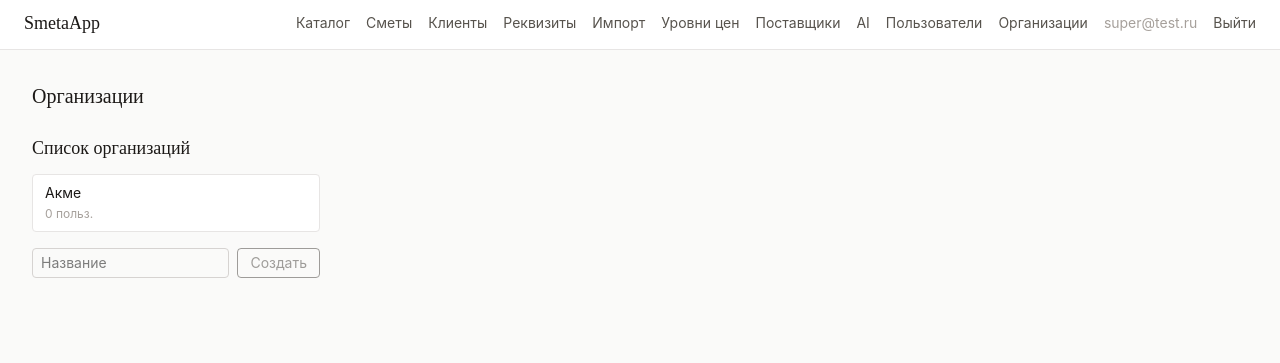
OrgsPage › показывает «письмо отправлено» если email_sent=true
Step 1. Click the text "Акме" → [63, 192], box [45,184,81,201]
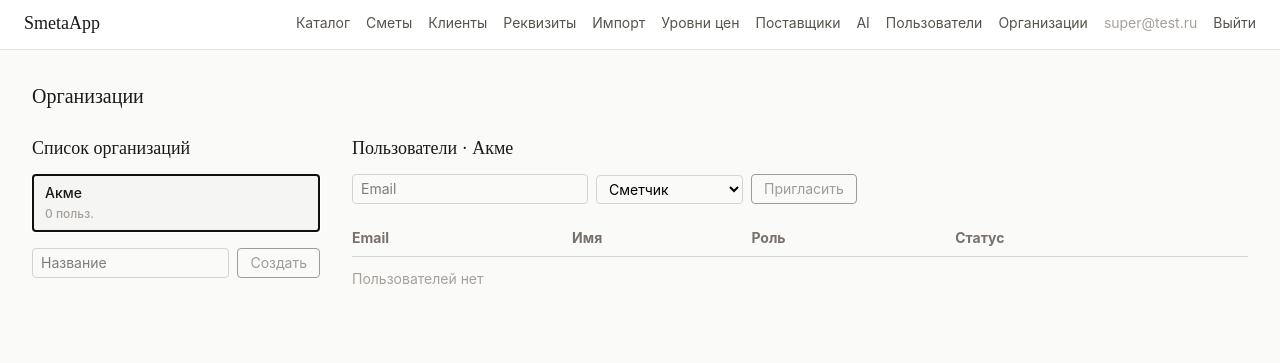
Step 2. Type "another@test.ru" into the field named "Email для приглашения" → [470, 189], box [352,174,588,204]
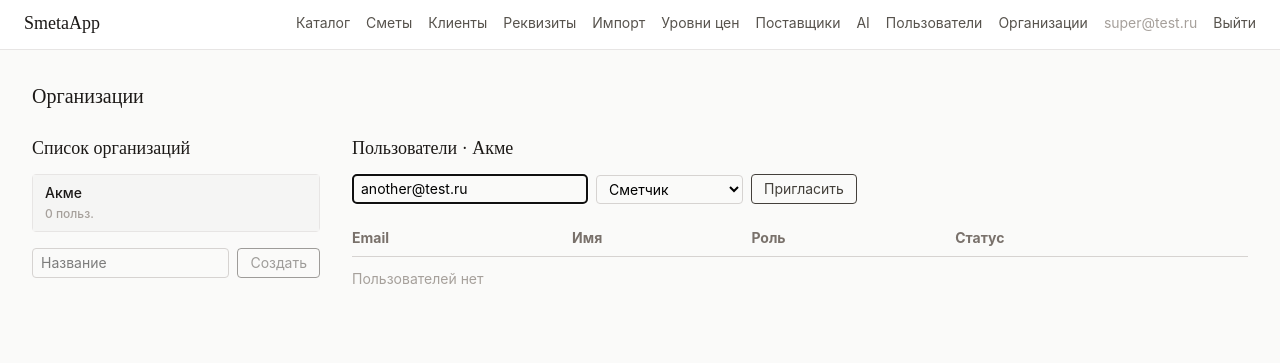
Step 3. Click the button "Пригласить" → [804, 189], box [751,174,857,204]
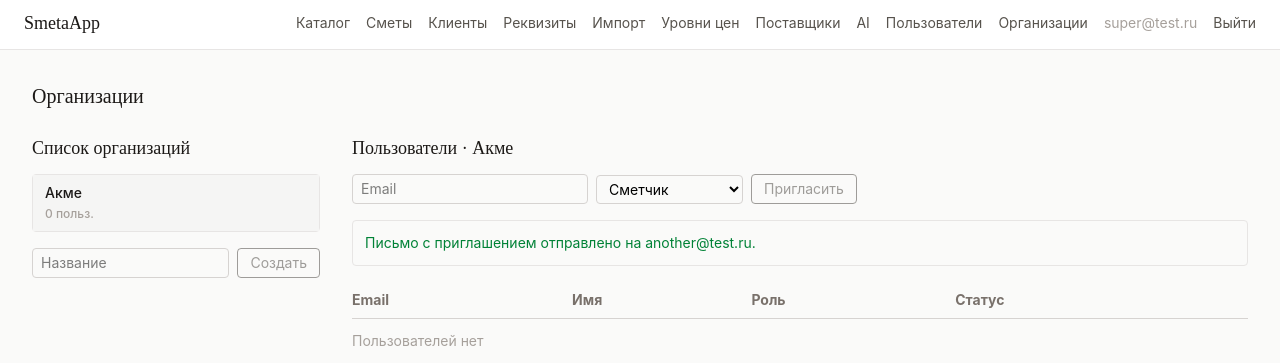
Check: the text "Письмо с приглашением отправлено на another@test.ru." is shown, box [365,234,756,251]
